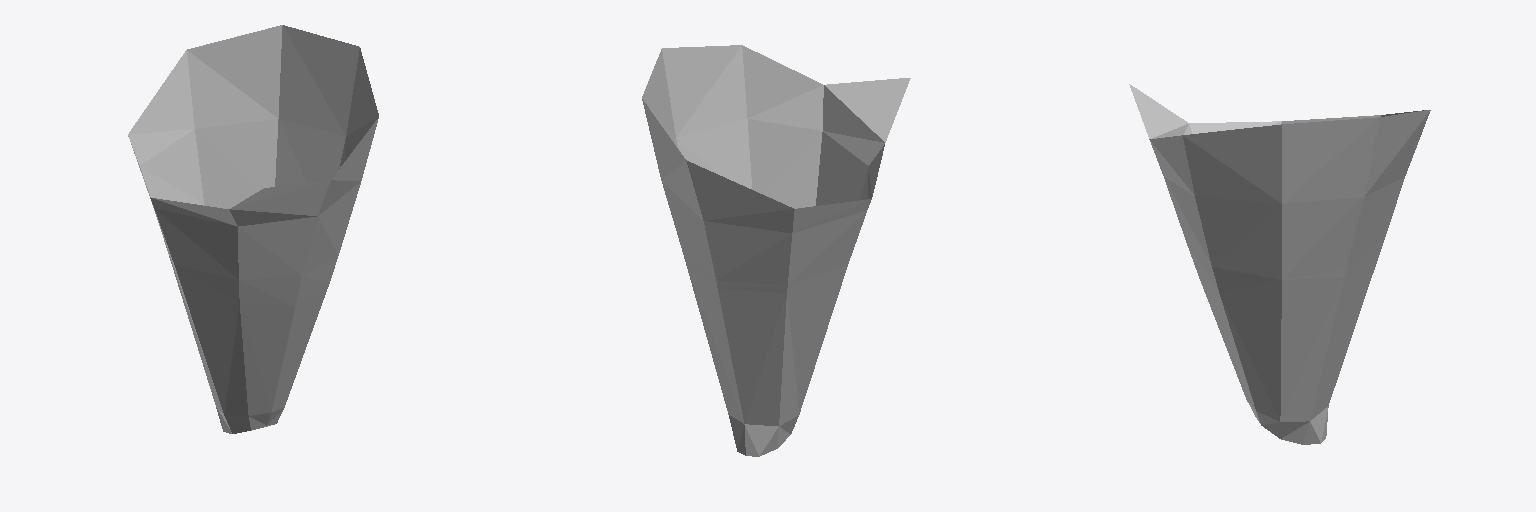
Rendered from pierna_der.obj.
3 renders of one model, left to right at view 1: azimuth 30°, elevation 25°; view 2: azimuth 150°, elevation 25°; view 3: azimuth 270°, elevation 25°, orthographic.
Visible parts, largest first — view 1: Body_jinsters_padoru.038; view 2: Body_jinsters_padoru.038; view 3: Body_jinsters_padoru.038.
Part boxes in pixels (left/top/right/bottom): Body_jinsters_padoru.038: left=128, top=25, right=378, bottom=433; Body_jinsters_padoru.038: left=642, top=45, right=910, bottom=456; Body_jinsters_padoru.038: left=1129, top=84, right=1430, bottom=444.
Bounding box in the file's own units: 0.0627 × 0.1043 × 0.0781.